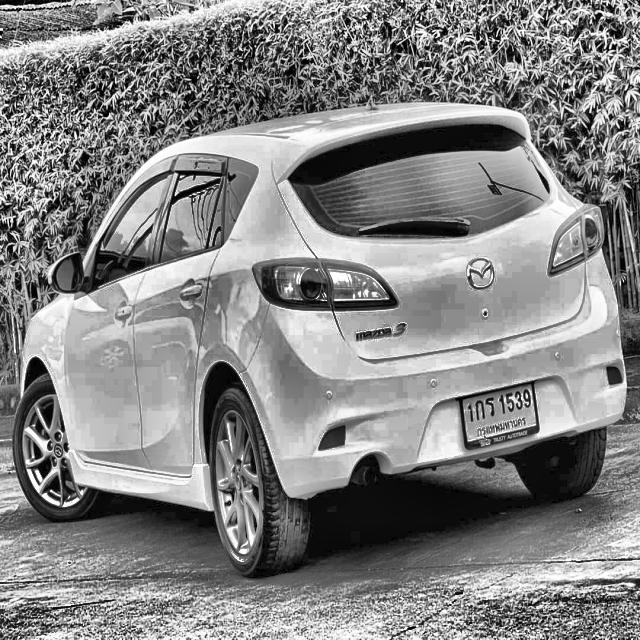license-plate: (458, 378, 542, 452)
